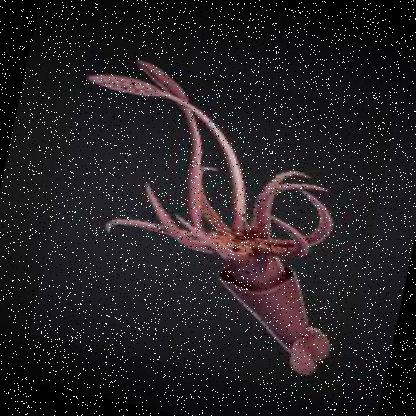colossal_squid: (29, 47, 398, 398)
